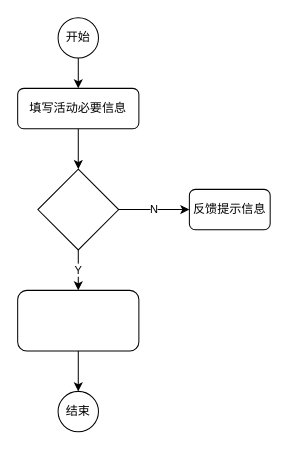
Image size: 288x449. Some labels were removed from this diagram. Here are the shapes that lost their labels. From the top down, the centre of each, then its label:
At point 78,209: "判断填写是否为空".
At point 78,320: "将活动信息写入活动表".
